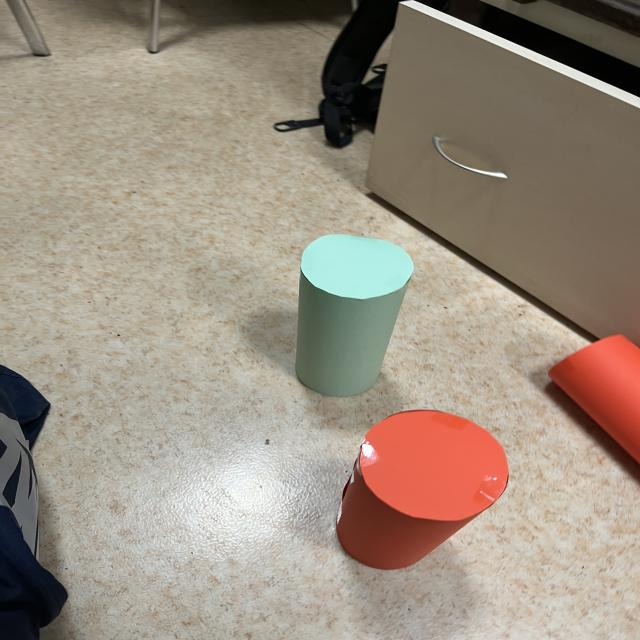meta: (295, 234, 414, 397)
przeszkoda: (336, 410, 509, 569), (549, 335, 640, 463)
